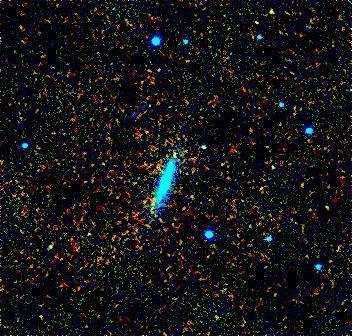star: (165, 139, 195, 169)
